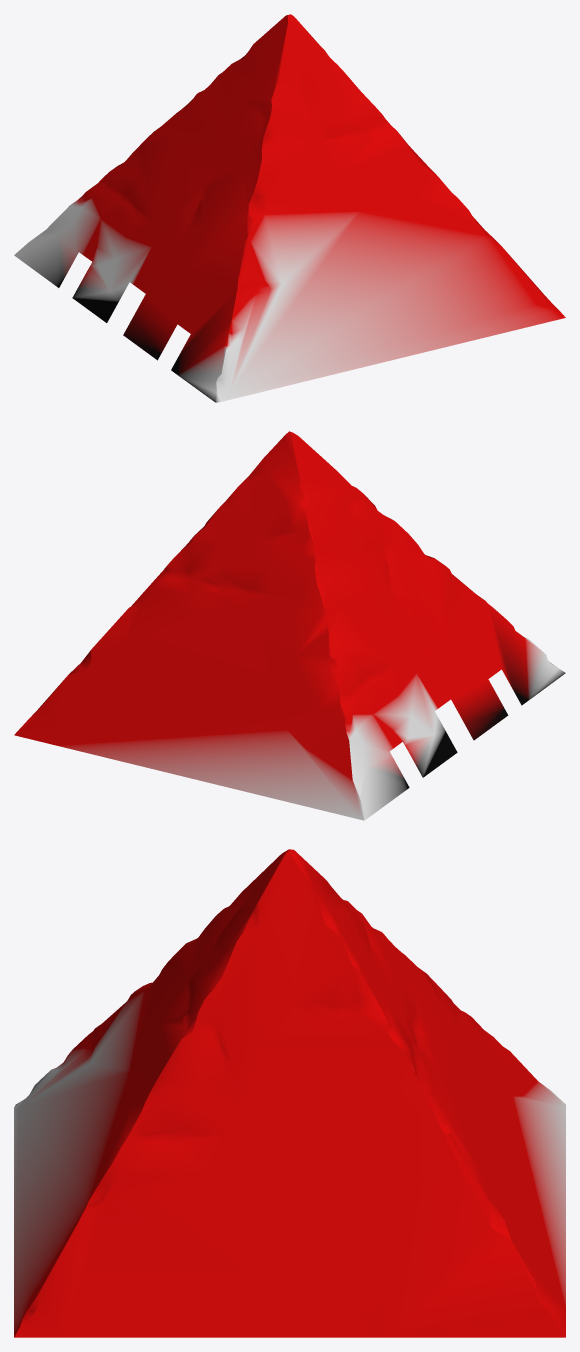
3 views of the same model, one above another, from view 1: azimuth 30°, elevation 25°; view 2: azimuth 150°, elevation 25°; view 3: azimuth 270°, elevation 25° (orthographic). The views are drawn at different scales.
Parts seen in each view (by area): view 1: SM_pyramid_02_LOD0; view 2: SM_pyramid_02_LOD0; view 3: SM_pyramid_02_LOD0.
Part boxes in pixels (<box>): SM_pyramid_02_LOD0: <box>14,14,565,402</box>; SM_pyramid_02_LOD0: <box>14,431,565,820</box>; SM_pyramid_02_LOD0: <box>14,849,565,1337</box>.
Bounding box in the file's own units: 8927 × 8926 × 6626.
